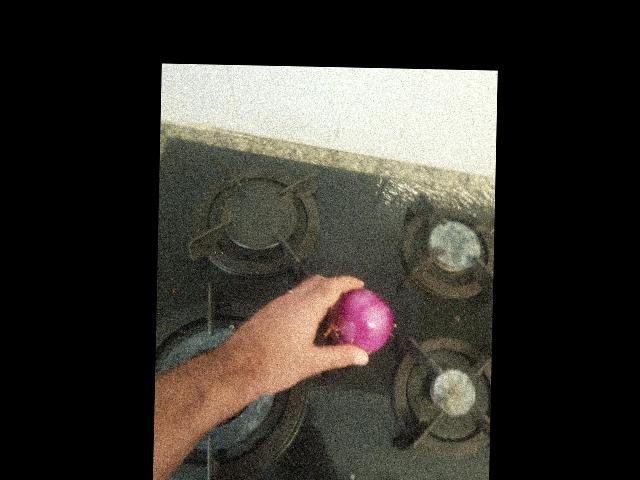onion: (377, 169, 450, 233)
